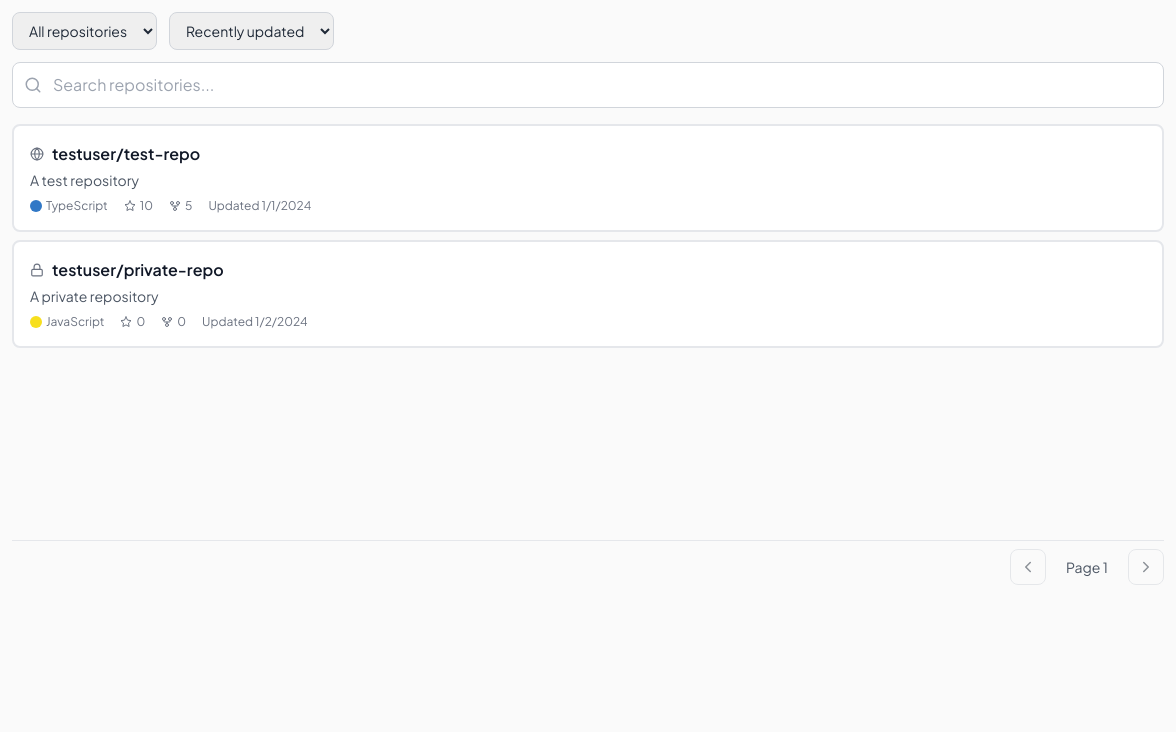
Test: GitHubRepoSelector › search functionality › should show empty message when no results match
This screenshot has width=1176, height=732.
Type "nonexistent" into the field with placeholder "Search repositories..." at (588, 85), box [12,62,1164,108]
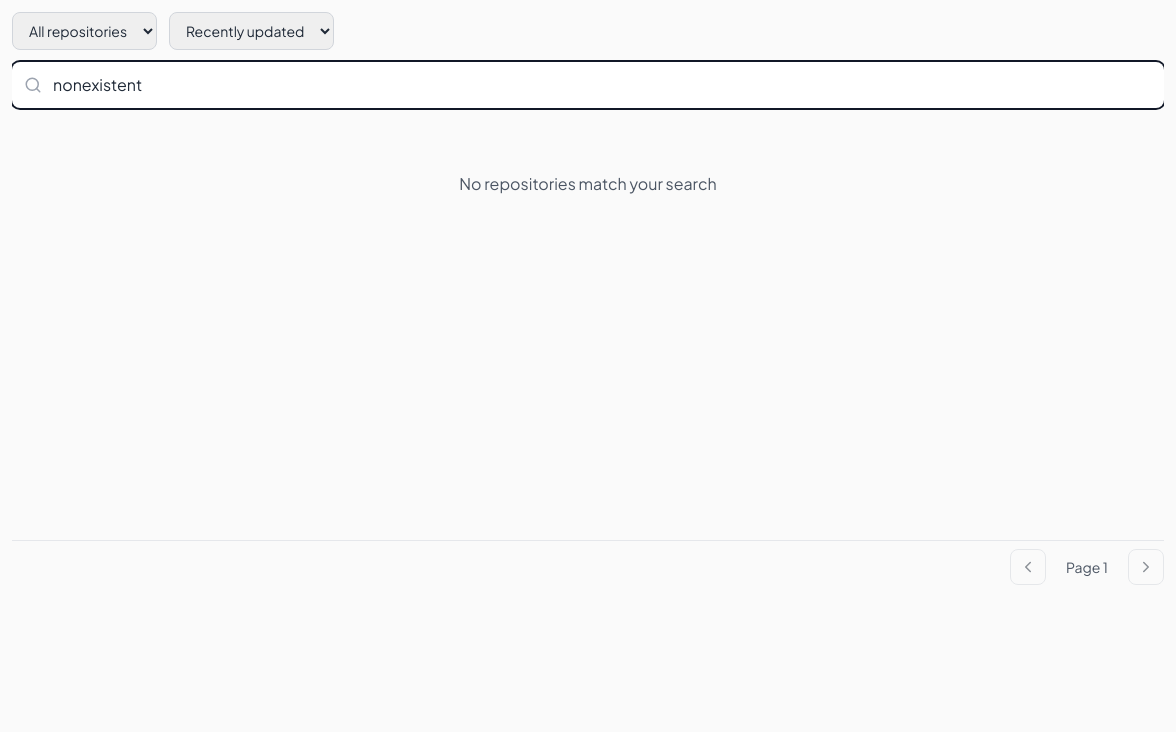
Result: the text "No repositories match your search" is shown at [459,173,717,194]
